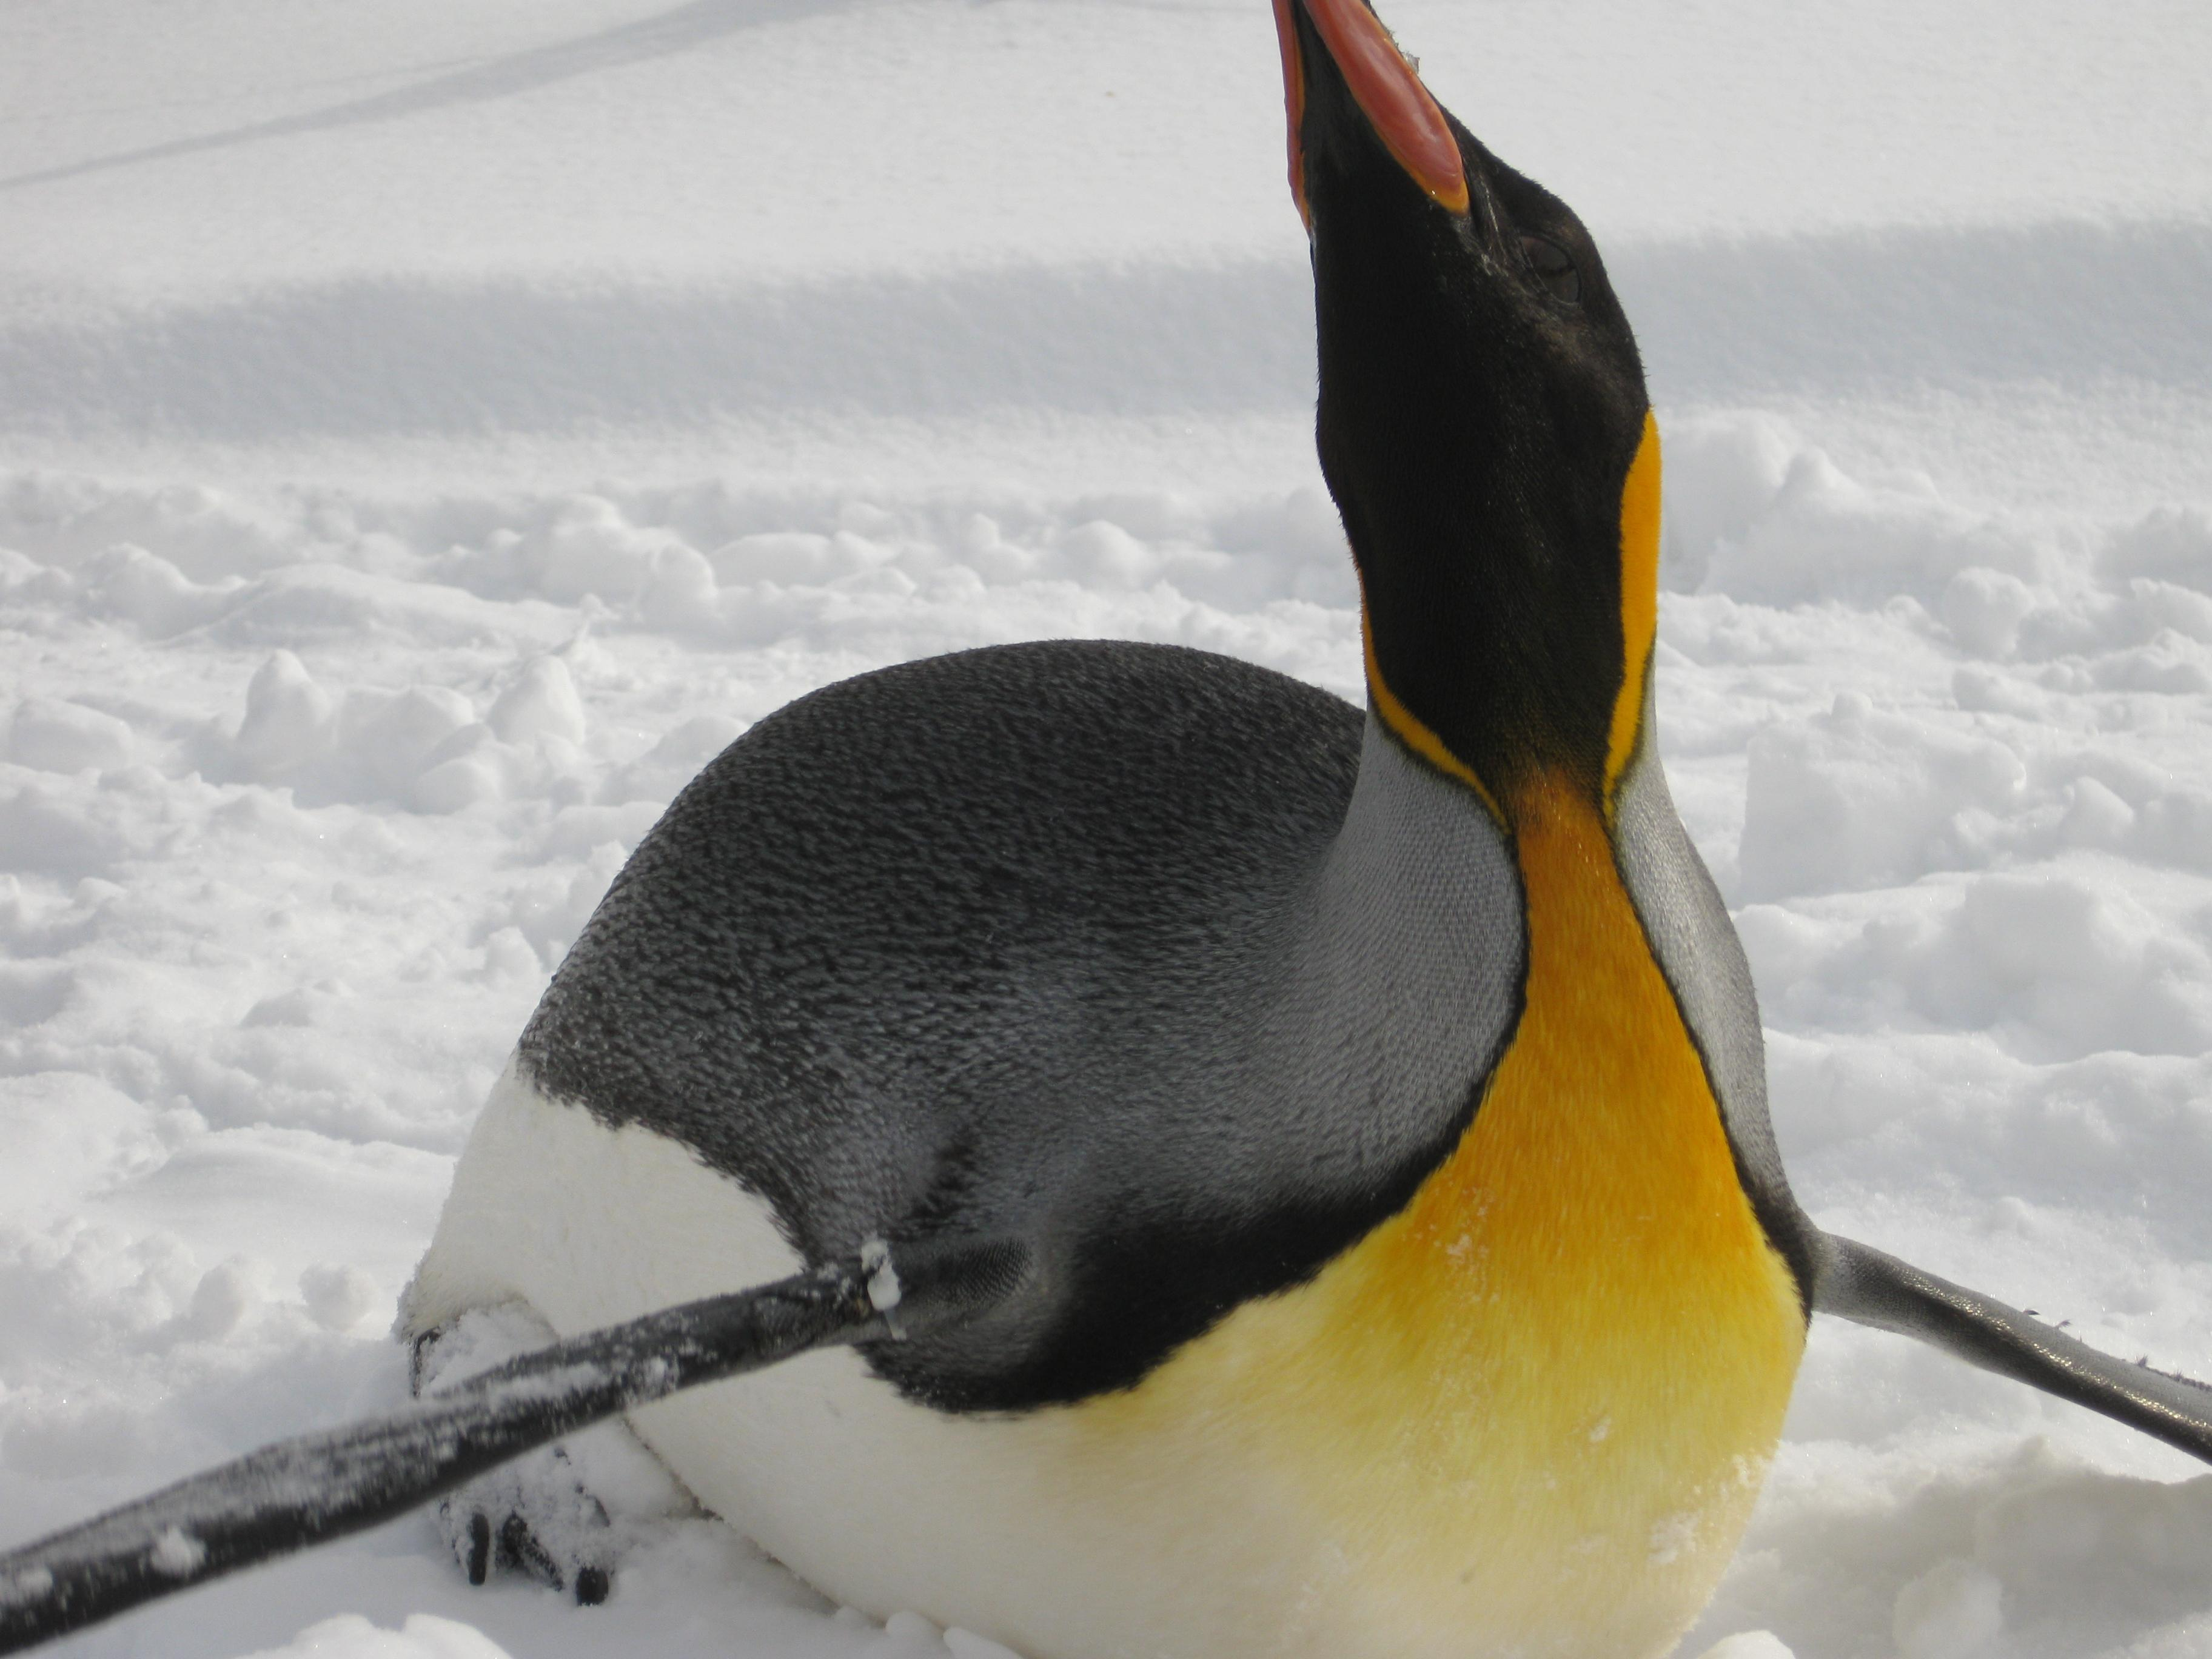king: (108, 0, 2054, 1659)
